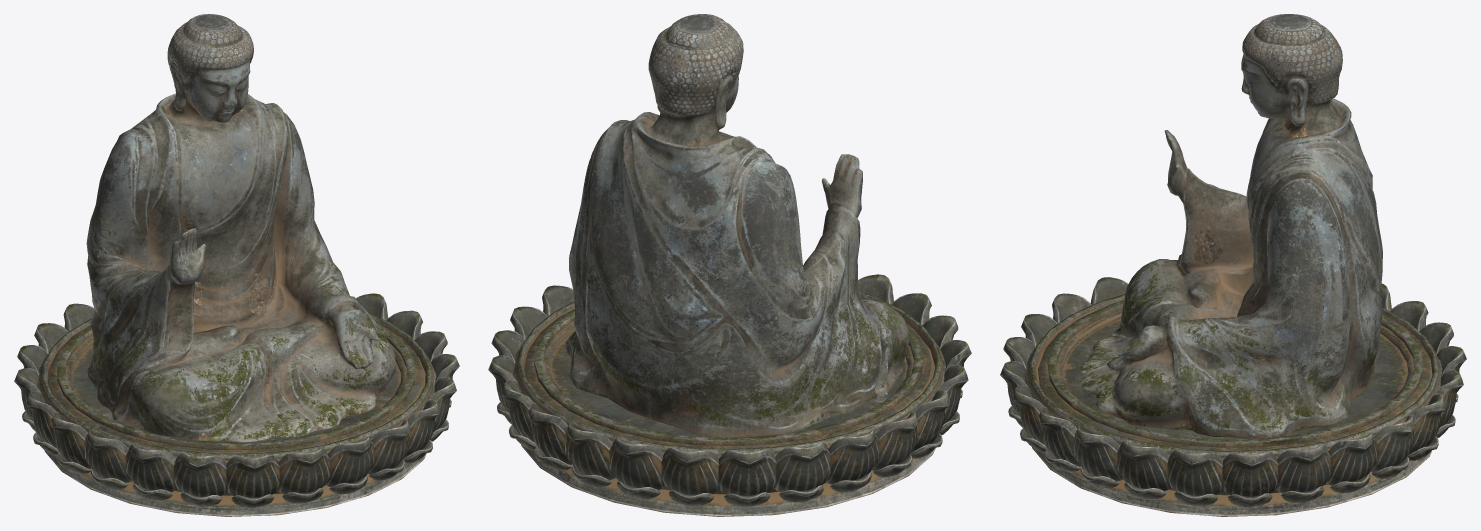
File: statue_of_buddha.glb
3 views of the same model, side by side, from view 1: azimuth 30°, elevation 25°; view 2: azimuth 150°, elevation 25°; view 3: azimuth 270°, elevation 25° (orthographic). The views are drawn at different scales.
Visible parts, largest first — view 1: Statua_BUDDA_0; view 2: Statua_BUDDA_0; view 3: Statua_BUDDA_0.
Part boxes in pixels (x1,y1,x2,y2): Statua_BUDDA_0: (14,14,459,516); Statua_BUDDA_0: (488,14,971,516); Statua_BUDDA_0: (1000,14,1466,516).
Size of the model in its own units: 2.63 by 2.55 by 2.63.
2 materials, 2 textured.
